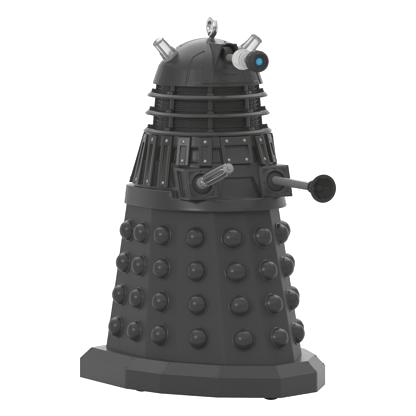person: (64, 8, 349, 404)
